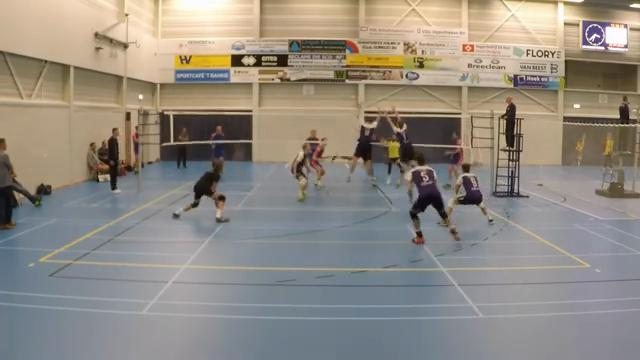Block: (378, 101, 421, 181), (344, 101, 379, 183)
Player: (405, 153, 459, 243), (173, 162, 228, 222), (447, 163, 493, 223), (443, 132, 462, 188), (291, 143, 309, 200), (381, 138, 402, 184), (311, 137, 327, 187), (305, 129, 318, 162), (305, 129, 318, 160), (603, 132, 613, 167), (575, 134, 585, 165)
